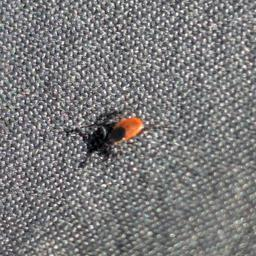Ixodes scapularis: (69, 111, 144, 165)
